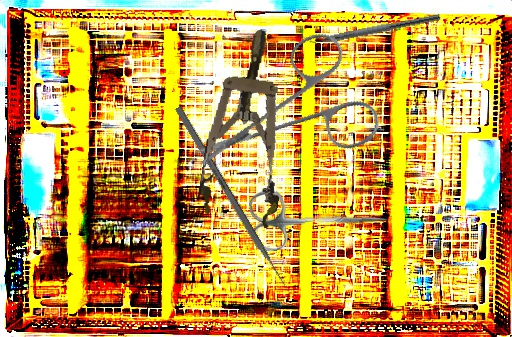Chopper: (297, 4, 442, 50)
Iris Scissors: (191, 6, 402, 215), (248, 186, 391, 252)
Pusher: (173, 105, 295, 299)
Speculum: (195, 24, 302, 230)
